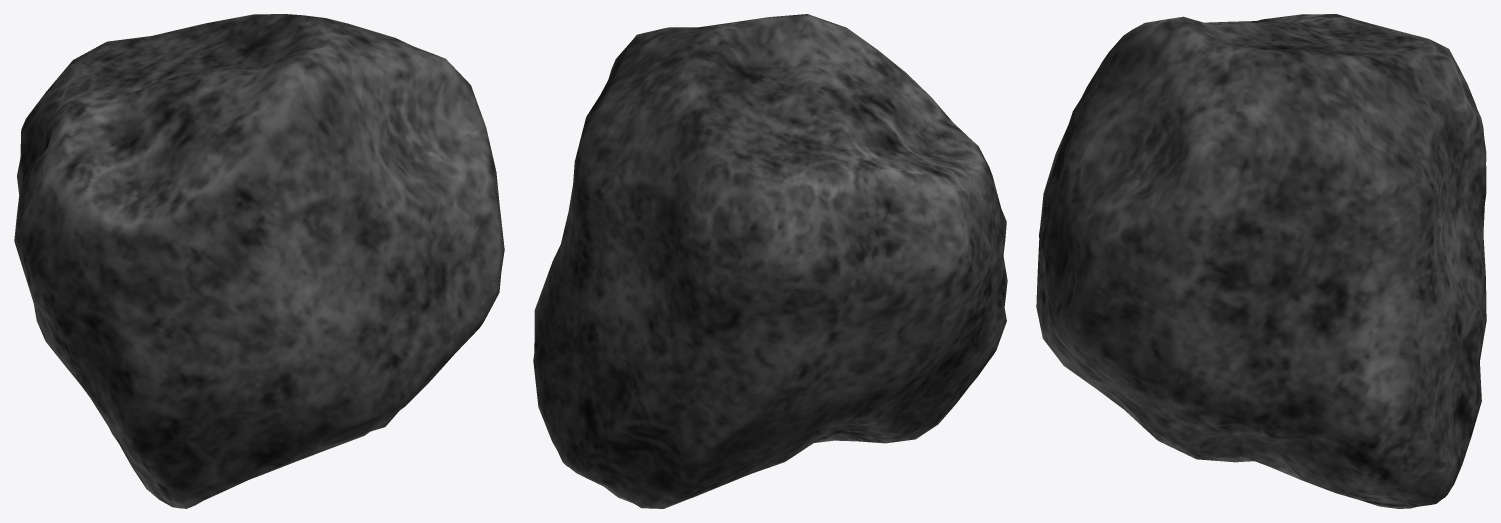
File: Asteroid_2.fbx
The picture shows the model from 3 angles, left to right: view 1: azimuth 30°, elevation 25°; view 2: azimuth 150°, elevation 25°; view 3: azimuth 270°, elevation 25°; orthographic projection. The views are drawn at different scales.
Visible parts, largest first — view 1: Asteroid_no_2; view 2: Asteroid_no_2; view 3: Asteroid_no_2.
Boxes of the visible parts, x1,y1,x2,y2 form: Asteroid_no_2: (14, 14, 504, 508); Asteroid_no_2: (533, 14, 1007, 508); Asteroid_no_2: (1036, 14, 1486, 508).
Bounding box in the file's own units: 575 × 591 × 527.
Materials: 1 (1 with a texture image).
